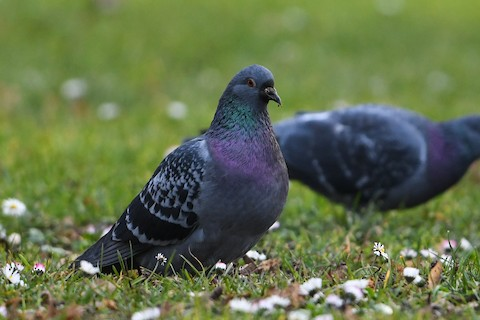pigeon: (56, 64, 292, 282), (236, 83, 472, 250)
